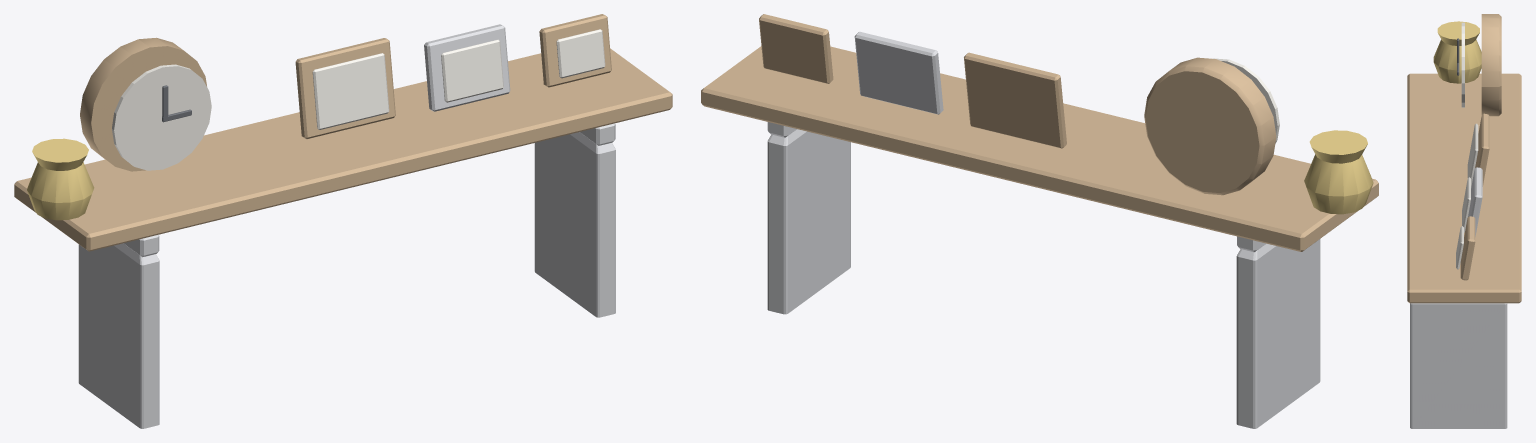
File: care-home-and-day-room-personal-shelf-31129921__35722.glb
3 renders of one model, left to right at view 1: azimuth 30°, elevation 25°; view 2: azimuth 150°, elevation 25°; view 3: azimuth 270°, elevation 25°, orthographic. The views are drawn at different scales.
Visible parts, largest first — view 1: personal-shelf; view 2: personal-shelf; view 3: personal-shelf.
Boxes of the visible parts, box(x1,y1,x2,y2) form: personal-shelf: box(14, 14, 672, 428); personal-shelf: box(701, 14, 1378, 428); personal-shelf: box(1407, 14, 1521, 428).
Bounding box in the file's own units: 0.935 × 0.49 × 0.2.
